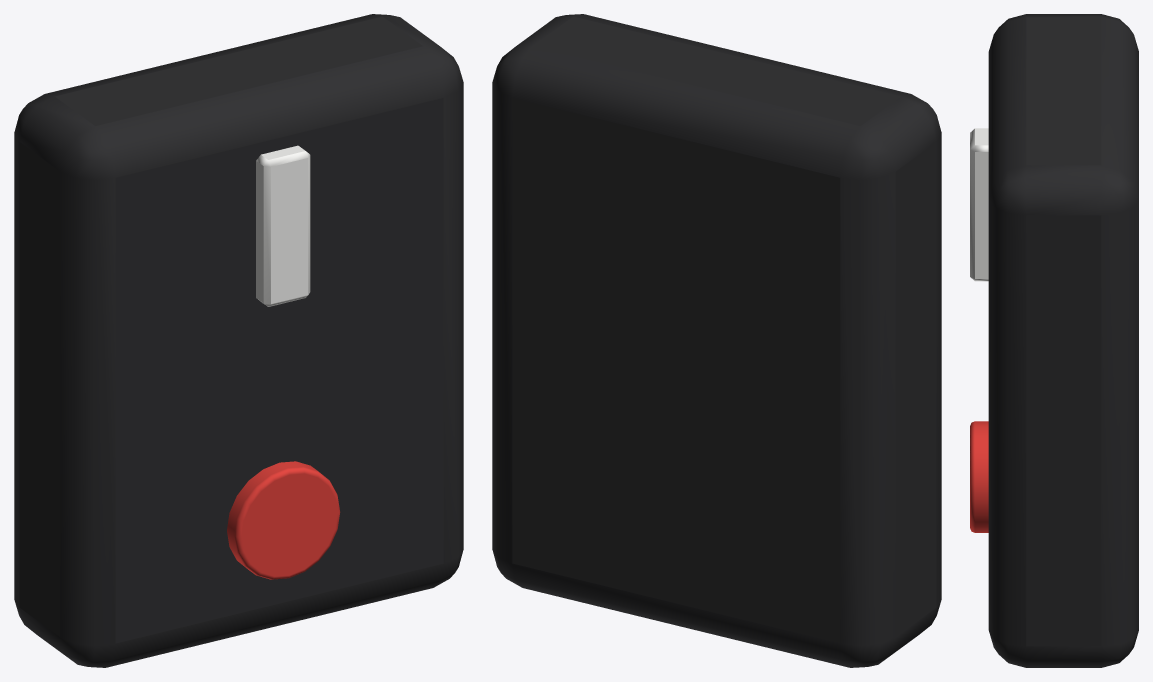
File: machine_rocker.glb
The picture shows the model from 3 angles, left to right: view 1: azimuth 30°, elevation 25°; view 2: azimuth 150°, elevation 25°; view 3: azimuth 270°, elevation 25°; orthographic projection. The views are drawn at different scales.
Visible parts, largest first — view 1: machine_rocker; view 2: machine_rocker; view 3: machine_rocker.
Part boxes in pixels (x1,y1,x2,y2): machine_rocker: [14, 14, 463, 667]; machine_rocker: [492, 14, 941, 667]; machine_rocker: [970, 14, 1138, 667].
Bounding box in the file's own units: 0.034 × 0.044 × 0.0135.
